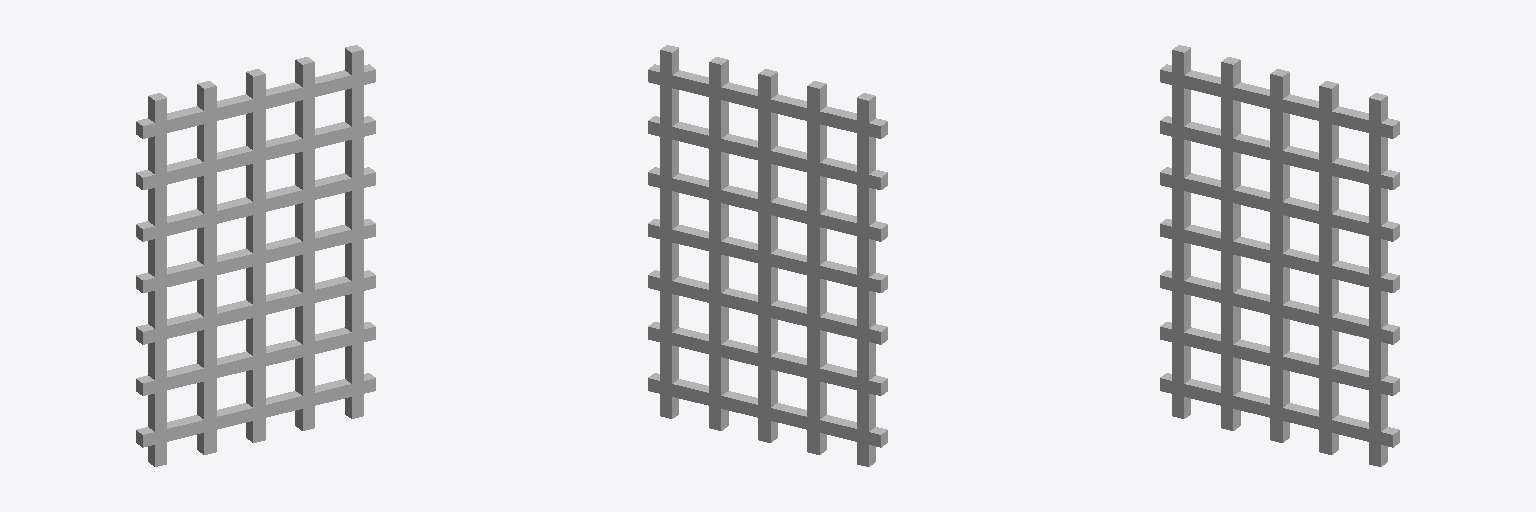
File: gate.obj
The picture shows the model from 3 angles: view 1: azimuth 30°, elevation 25°; view 2: azimuth 150°, elevation 25°; view 3: azimuth 330°, elevation 25°; orthographic projection.
Parts seen in each view (by area): view 1: cube; view 2: cube; view 3: cube.
Part boxes in pixels (left/top/right/bottom): cube: left=136, top=45, right=375, bottom=466; cube: left=648, top=45, right=887, bottom=466; cube: left=1160, top=45, right=1399, bottom=466.
Size of the model in its own units: 2.38 by 3.56 by 0.125.